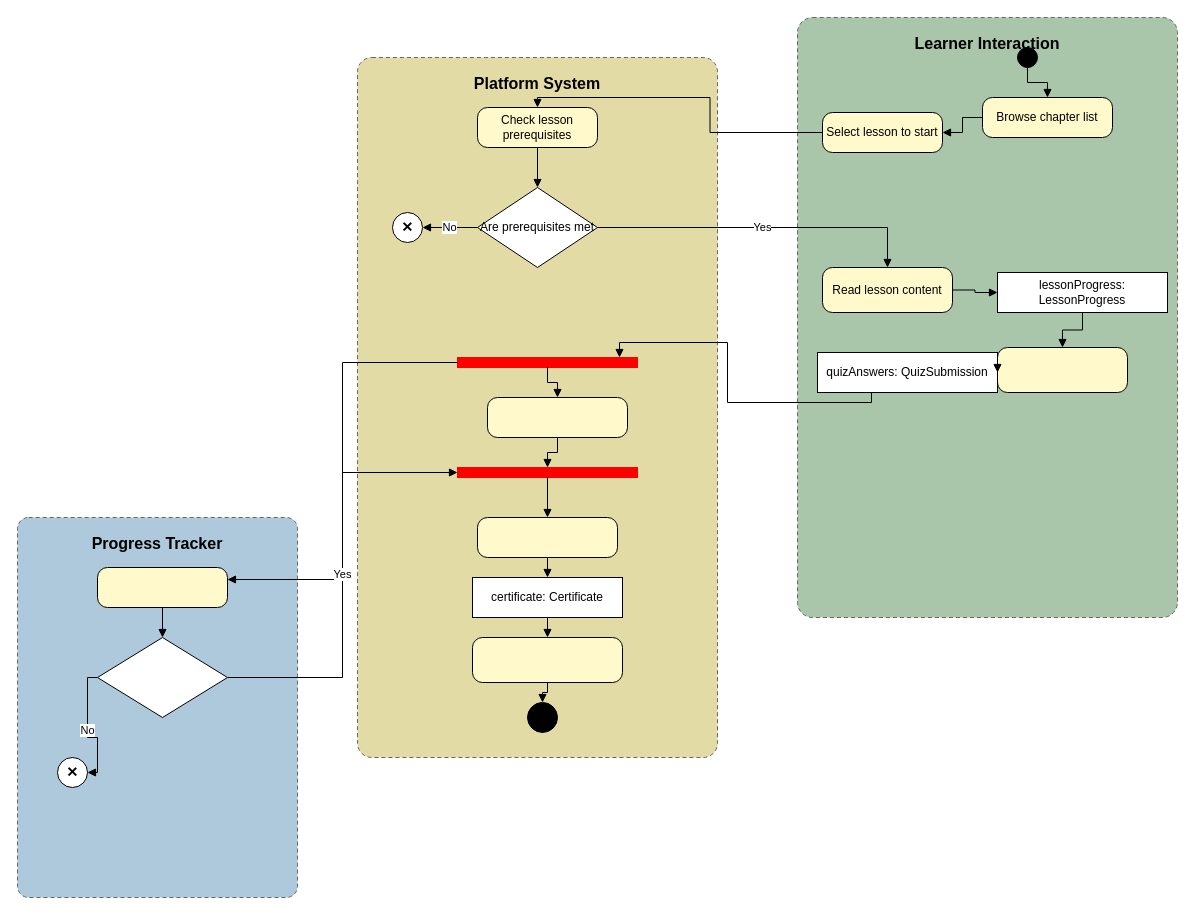
Some shapes in this 1195 by 915 pixel diagram are drawn without their labels. Each missing label, with the centre of its shape:
Attempt quiz: point 1062,369
Evaluate quiz answers: point 162,587
Generate completion certificate: point 547,537
Is quiz passed: point 162,677
Notify learner and unlock next lesson: point 547,659
Save lesson completion: point 557,417
